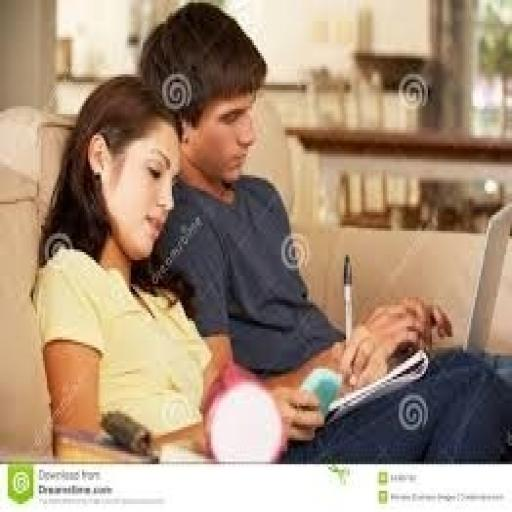using_laptop: (315, 199, 510, 427)
